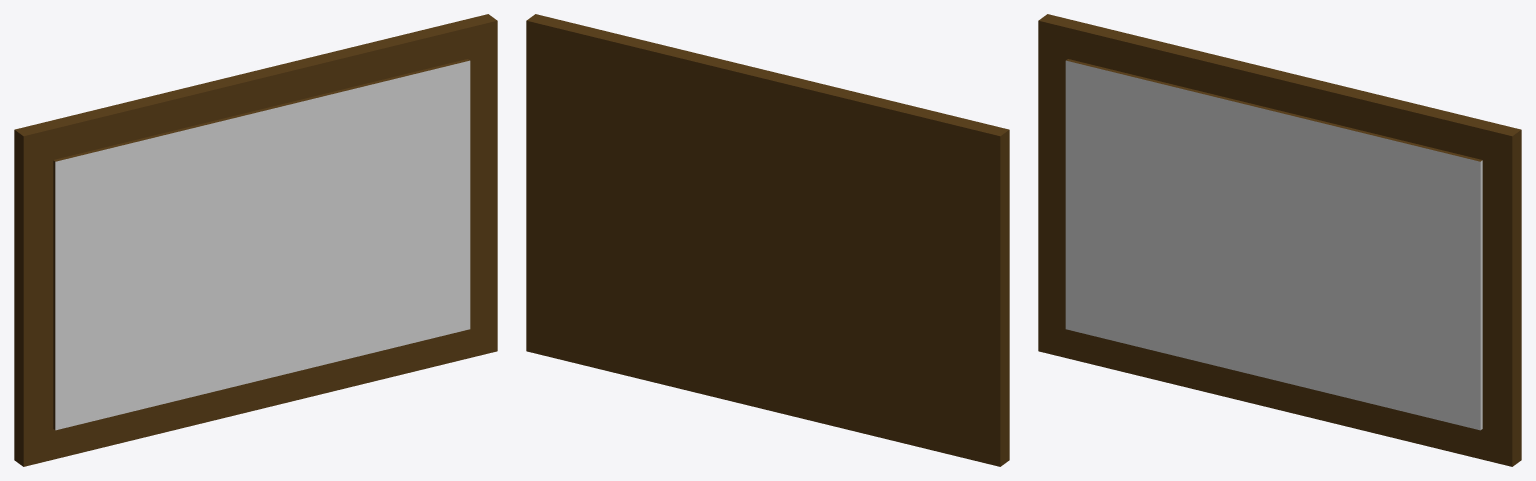
File: Cuadro.fbx
3 renders of one model, left to right at view 1: azimuth 30°, elevation 25°; view 2: azimuth 150°, elevation 25°; view 3: azimuth 330°, elevation 25°, orthographic.
Parts seen in each view (by area): view 1: PictureFrame; view 2: PictureFrame; view 3: PictureFrame.
Boxes of the visible parts, x1,y1,x2,y2 form: PictureFrame: (14,14,497,466); PictureFrame: (526,14,1009,466); PictureFrame: (1038,14,1521,466).
Size of the model in its own units: 1.2 by 0.8 by 0.05.
